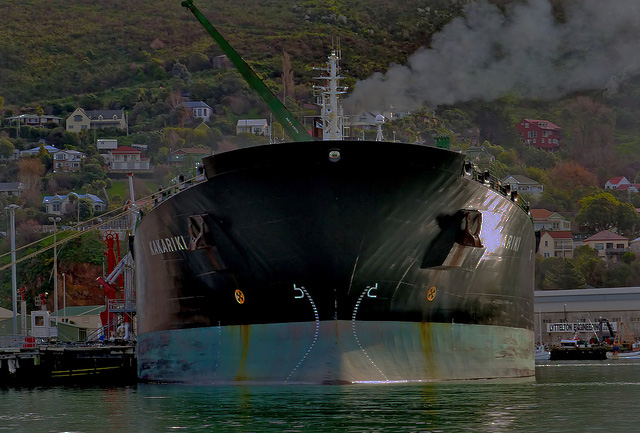tanker: (137, 39, 543, 380)
